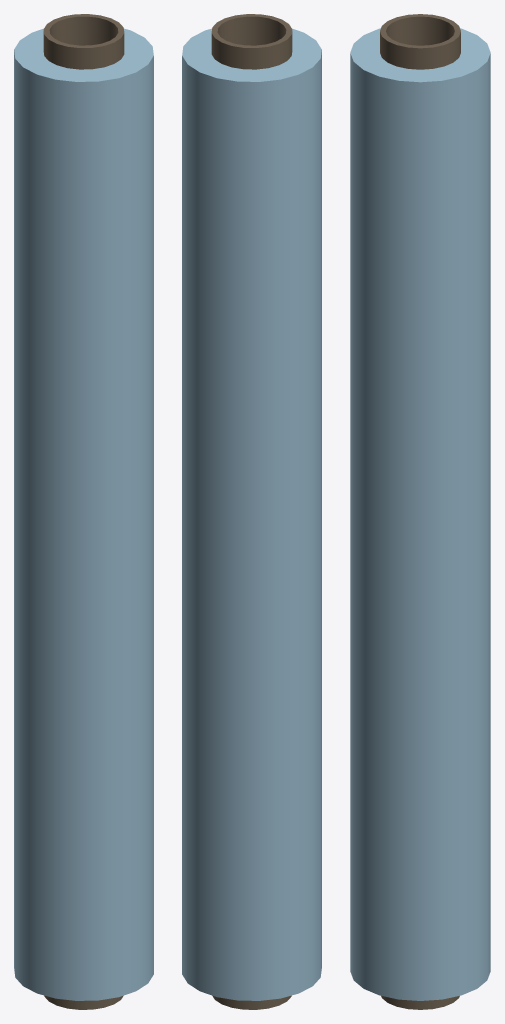
Rendered from RolBlauw.fbx.
3 renders of one model, left to right at view 1: azimuth 30°, elevation 25°; view 2: azimuth 150°, elevation 25°; view 3: azimuth 270°, elevation 25°, orthographic.
Parts seen in each view (by area): view 1: textielrol4; view 2: textielrol4; view 3: textielrol4.
Boxes of the visible parts, bbox=[...] form: textielrol4: bbox=[14, 14, 153, 1009]; textielrol4: bbox=[182, 14, 321, 1009]; textielrol4: bbox=[350, 14, 490, 1009].
Size of the model in its own units: 0.2449 by 1.85 by 0.2449.
